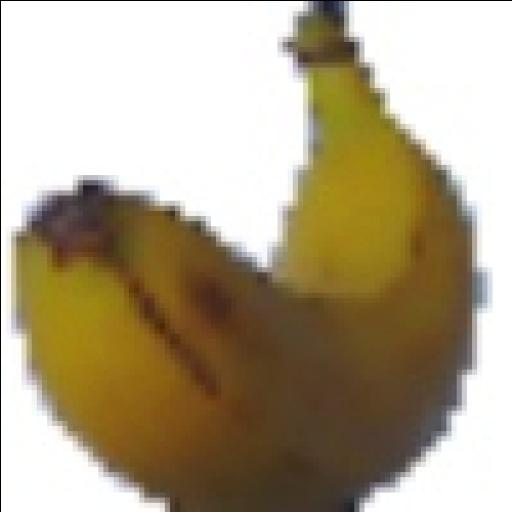banana: (17, 1, 472, 511), (17, 186, 349, 511), (278, 12, 472, 477)
